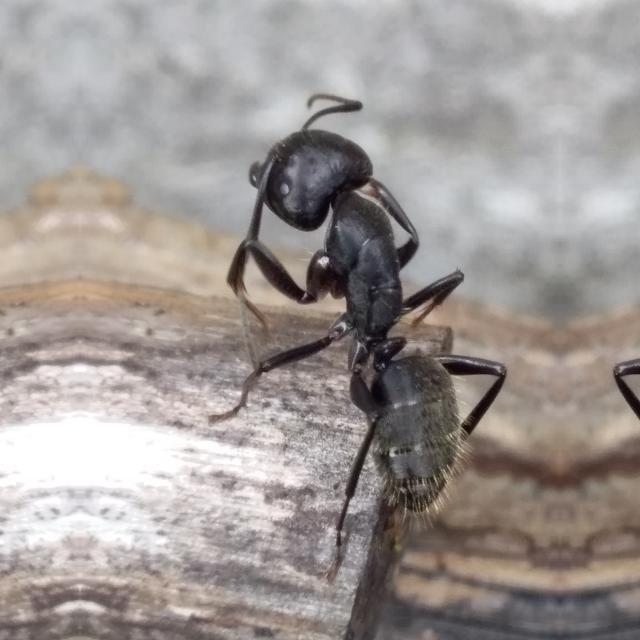Camponotus: (196, 91, 534, 549)
